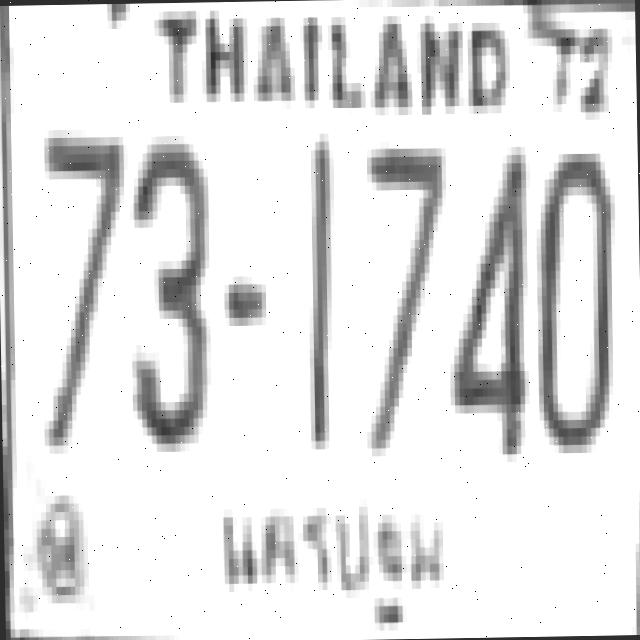0: (530, 144, 614, 444)
1: (300, 137, 334, 445)
3: (123, 131, 208, 448)
4: (443, 138, 528, 454)
7: (36, 120, 126, 445), (359, 139, 448, 448)
NakhonPathom: (206, 470, 451, 636)
